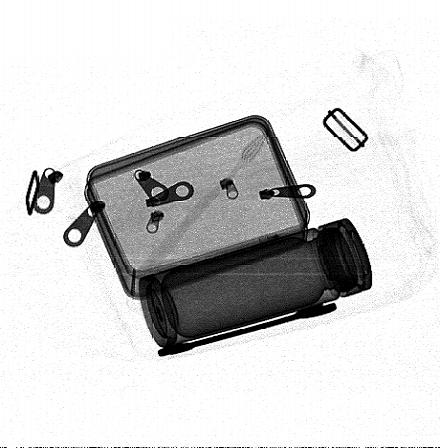Wrench: (156, 301, 338, 358)
